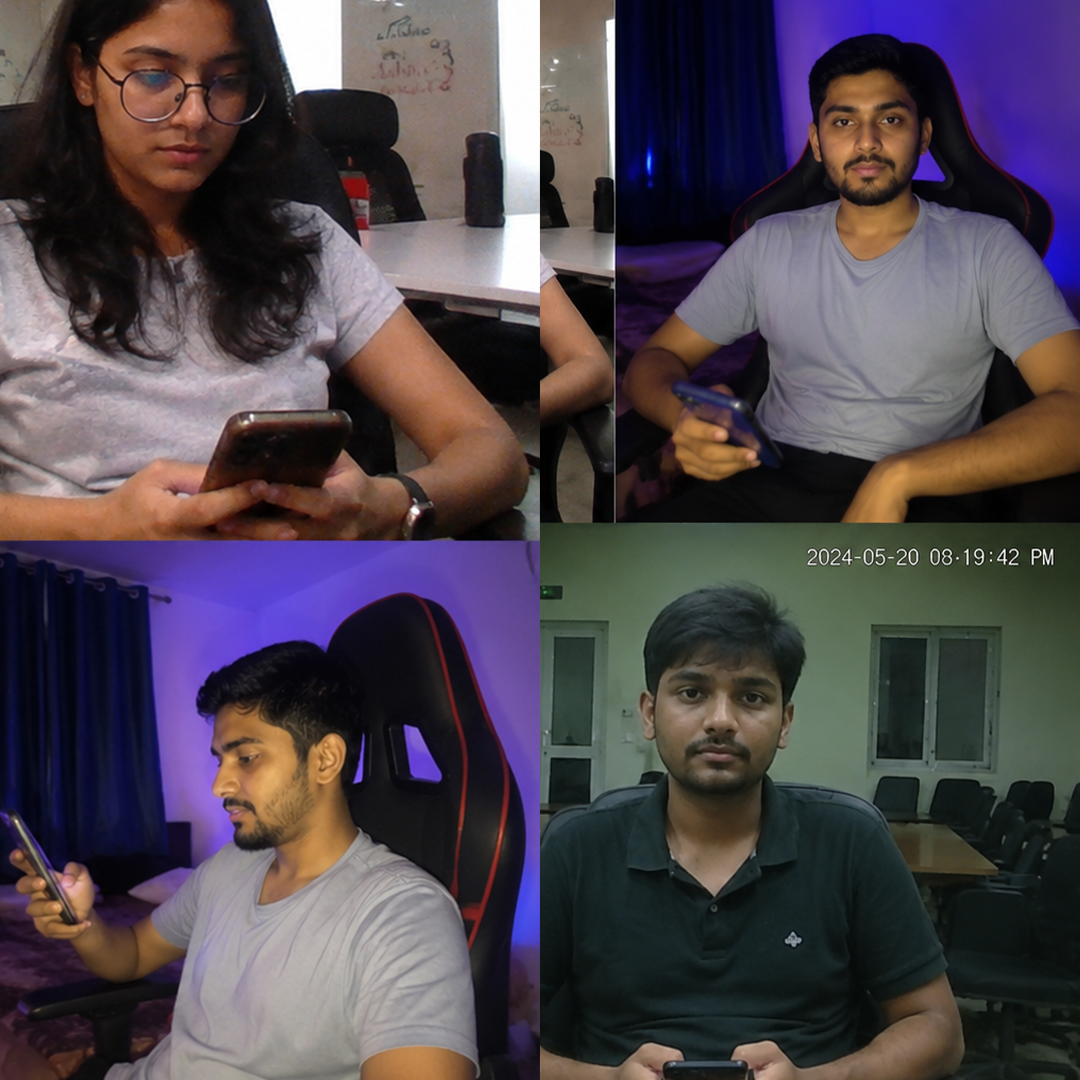Focused: (592, 572, 899, 1056), (759, 50, 1044, 453)
distracted: (48, 15, 416, 516), (80, 611, 451, 1073)
